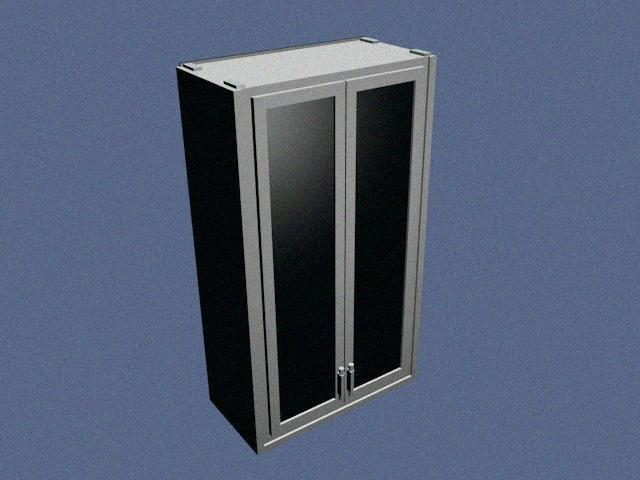cabinet_door: (262, 90, 345, 418), (345, 74, 417, 388)
